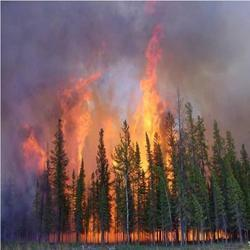fire: (62, 97, 97, 164), (132, 98, 170, 150)
